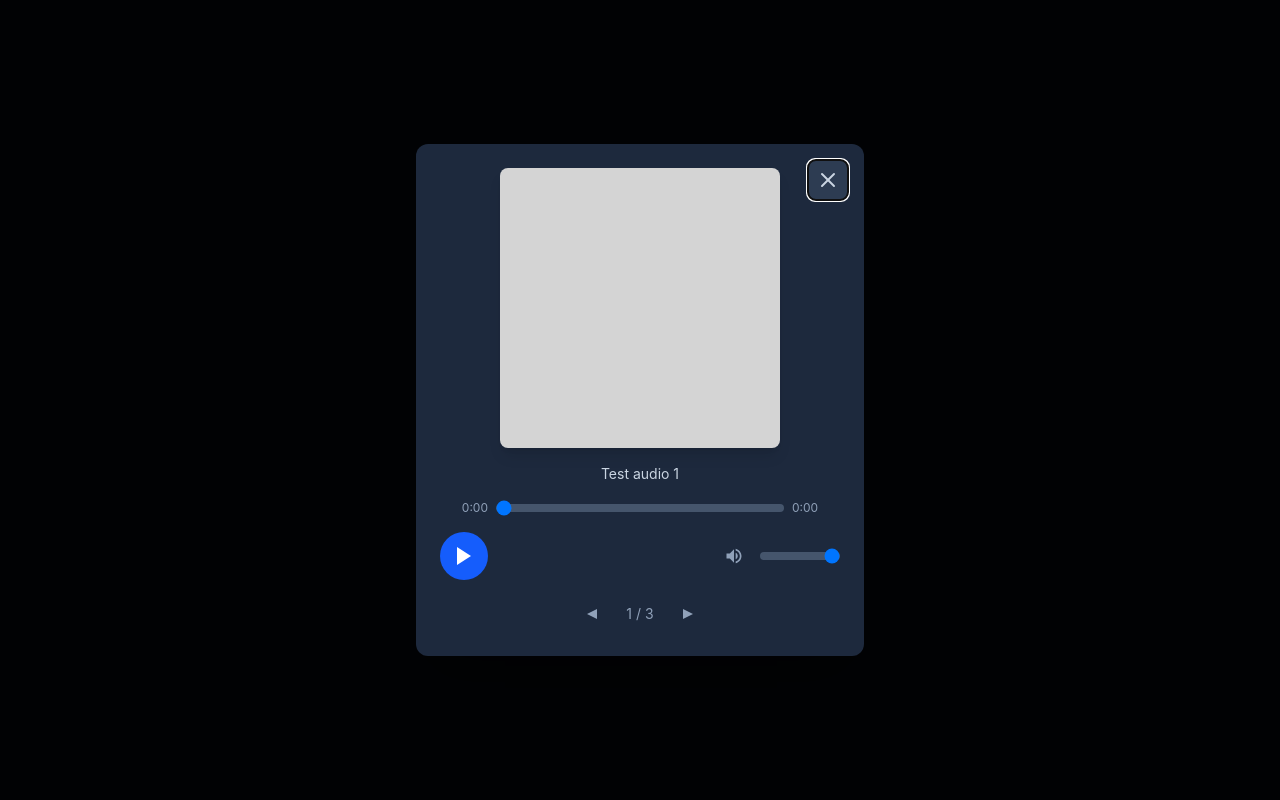
Test case: AudioPlayer › track navigation › should navigate to next track
Click the button named "次のトラック".
click(688, 614)  # box [670,596,706,632]
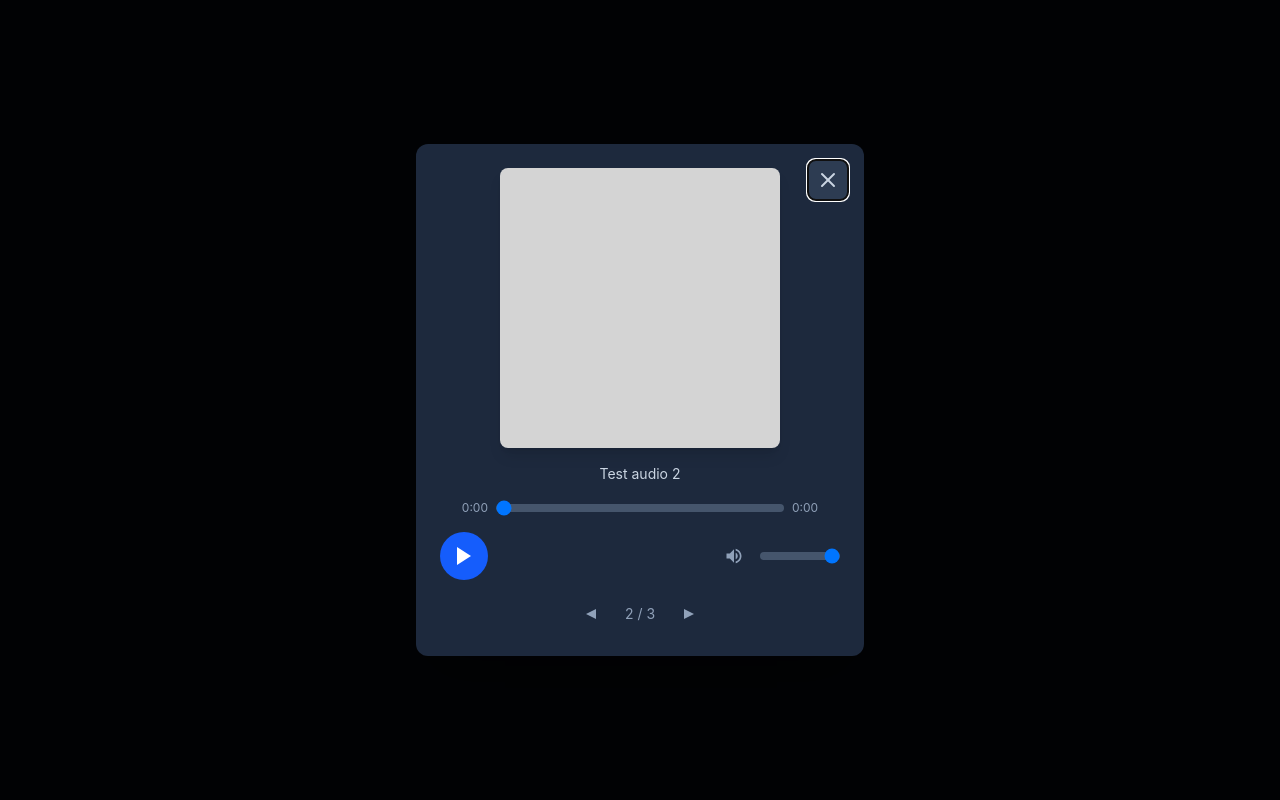
Result: the text "Test audio 2" is shown at [600,465,680,482]
